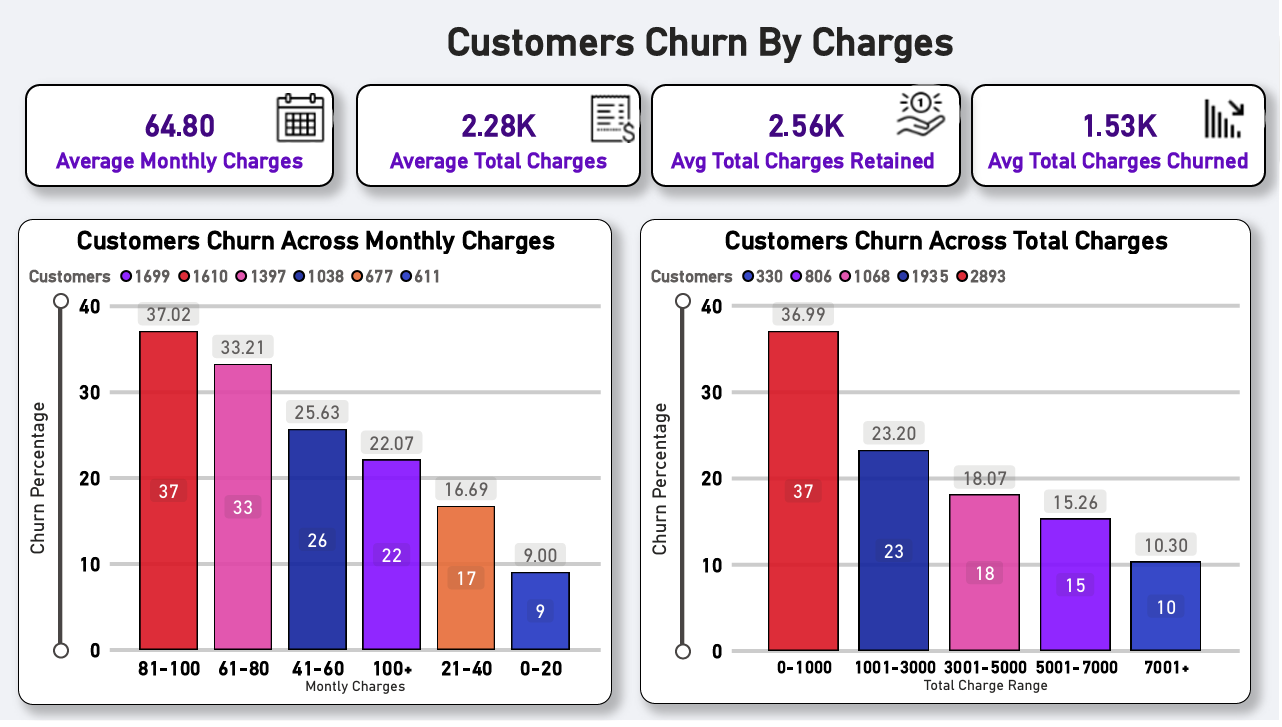

What the dashboard file says about the page in this screenshot:
{"tool":"powerbi","page":{"name":"Monthly & Total Charges","canvas":[1280,720],"ordinal":4},"visuals":[{"type":"card","fields":{"Values":["Avg(telco.MonthlyCharges)"]},"box":[23.7,83.5,308.9,103],"z":0},{"type":"card","fields":{"Values":["Avg(telco.TotalCharges)"]},"box":[354.8,83.5,285.2,103],"z":1000},{"type":"card","fields":{"Values":["Query1.Avg_TotalCharges_Churned"]},"box":[969.7,83.5,295,103],"z":2000},{"type":"card","fields":{"Values":["Query1.Avg_TotalCharges_Retained"]},"box":[649.7,83.5,310.3,103],"z":3000},{"type":"columnChart","title":"Customers Churn Across Monthly Charges","fields":{"Category":["Query15.monthly_charge_range"],"Y":["Sum(Query15.Churn_Percentage)"],"Series":["Query15.customers"]},"box":[16.7,218.4,594.1,485.6],"z":4000},{"type":"columnChart","title":"Customers Churn Across Total Charges","fields":{"Category":["Query16.Total_charge_range"],"Y":["Sum(Query16.churned_percentage)"],"Series":["Query16.Customers"]},"box":[639.4,217.7,610.8,485.1],"z":5000},{"type":"textbox","box":[332.5,12.5,733.2,54.3],"z":6000},{"type":"actionButton","box":[269.9,87.7,62.6,59.8],"z":7000},{"type":"actionButton","box":[580.2,87.7,59.8,59.8],"z":8000},{"type":"actionButton","box":[890.4,83.5,69.6,59.8],"z":9000},{"type":"actionButton","box":[1193.7,87.7,71,59.8],"z":10000}]}

Visuals, with their boxes in screenshot pixels (x1, y1, x2, y2), scaled from the page's 1280x720 canvas onto the 1282x727 screenshot:
card - Avg(telco.MonthlyCharges): 24/84/333/188
card - Avg(telco.TotalCharges): 355/84/641/188
card - Query1.Avg_TotalCharges_Churned: 971/84/1267/188
card - Query1.Avg_TotalCharges_Retained: 651/84/961/188
"Customers Churn Across Monthly Charges" columnChart: 17/221/612/711
"Customers Churn Across Total Charges" columnChart: 640/220/1252/710
textbox: 333/13/1067/67
actionButton: 270/89/333/149
actionButton: 581/89/641/149
actionButton: 892/84/961/145
actionButton: 1196/89/1267/149
